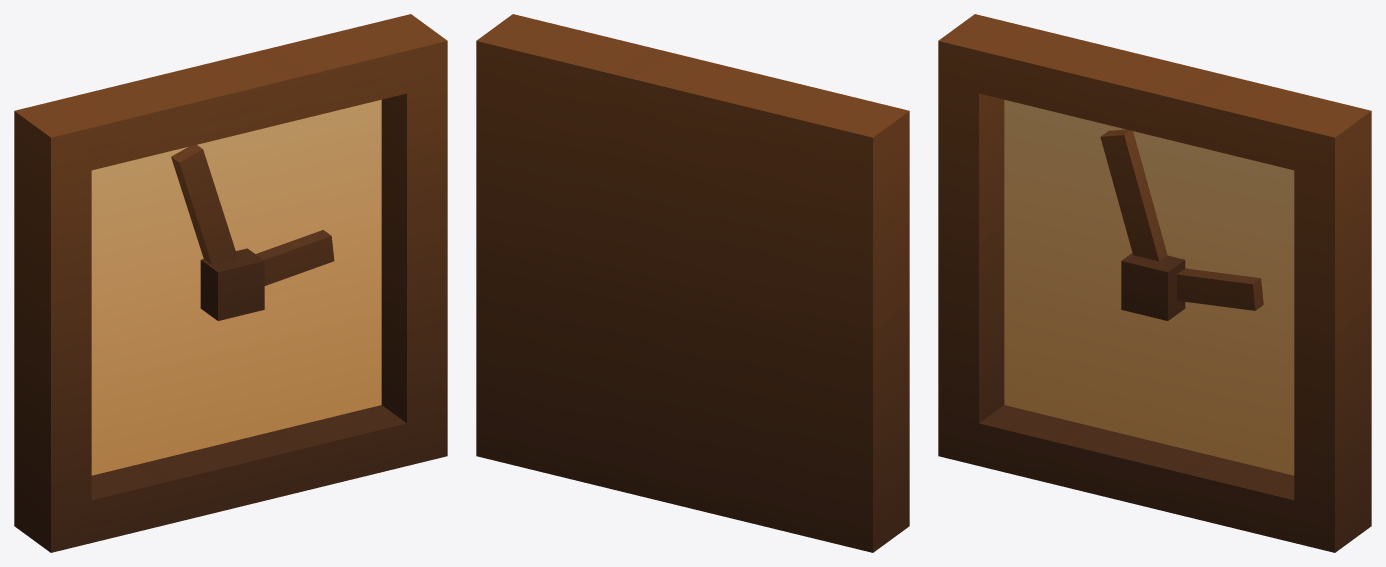
File: Clock_spruce.fbx
3 renders of one model, left to right at view 1: azimuth 30°, elevation 25°; view 2: azimuth 150°, elevation 25°; view 3: azimuth 330°, elevation 25°, orthographic.
Parts seen in each view (by area): view 1: Clock.spruce, Clock_MinuteHand.spruce, Clock_HourHand.spruce; view 2: Clock.spruce; view 3: Clock.spruce, Clock_MinuteHand.spruce, Clock_HourHand.spruce.
Boxes of the visible parts, <box> form: Clock.spruce: <box>14,14,447,552</box>; Clock_MinuteHand.spruce: <box>171,145,237,264</box>; Clock_HourHand.spruce: <box>255,230,334,285</box>; Clock.spruce: <box>476,14,909,552</box>; Clock.spruce: <box>938,14,1371,552</box>; Clock_MinuteHand.spruce: <box>1100,129,1167,261</box>; Clock_HourHand.spruce: <box>1177,268,1263,310</box>.
Size of the model in its own units: 74.57 by 74.57 by 11.96.
